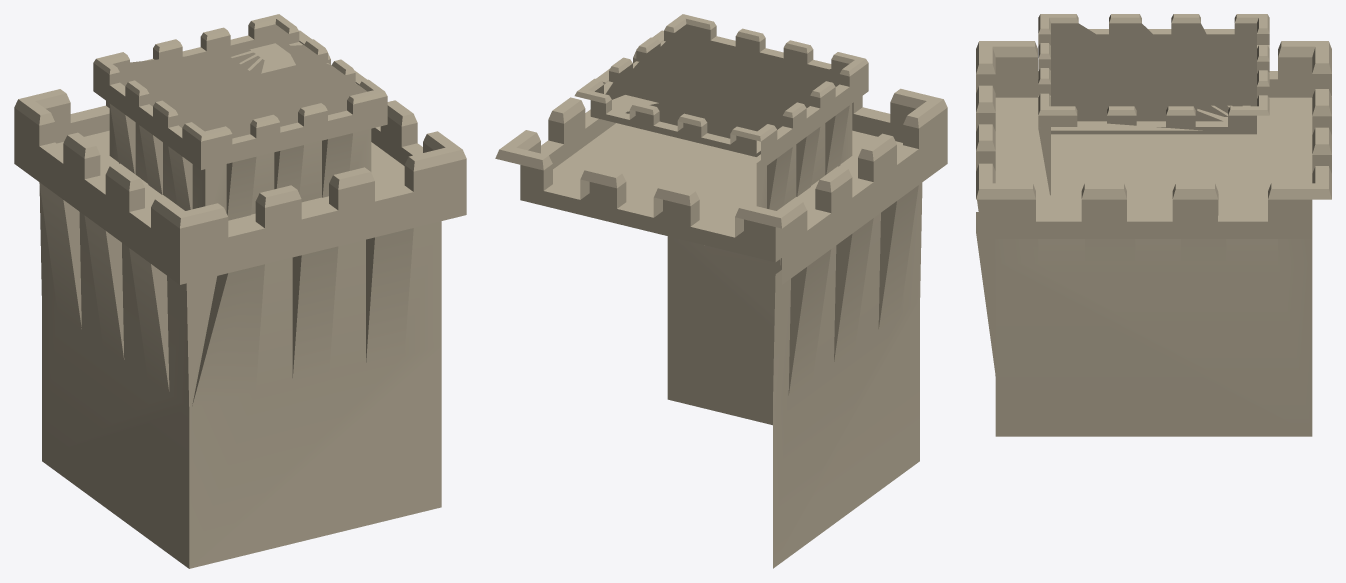
Rendered from TowerOptimized.FBX.
The picture shows the model from 3 angles, left to right: view 1: azimuth 30°, elevation 25°; view 2: azimuth 150°, elevation 25°; view 3: azimuth 270°, elevation 25°; orthographic projection. The views are drawn at different scales.
Parts seen in each view (by area): view 1: Box085; view 2: Box085; view 3: Box085.
Part boxes in pixels (<box>): Box085: <box>14,14,466,568</box>; Box085: <box>495,14,947,568</box>; Box085: <box>976,14,1331,436</box>.
Bounding box in the file's own units: 113 × 153 × 113.
